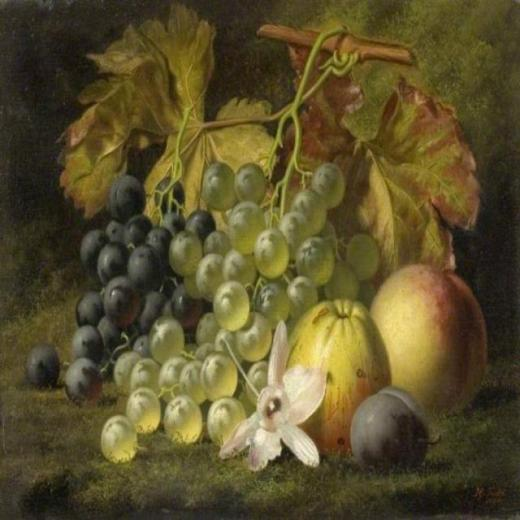Orange: (64, 161, 384, 461), (26, 339, 58, 394)
